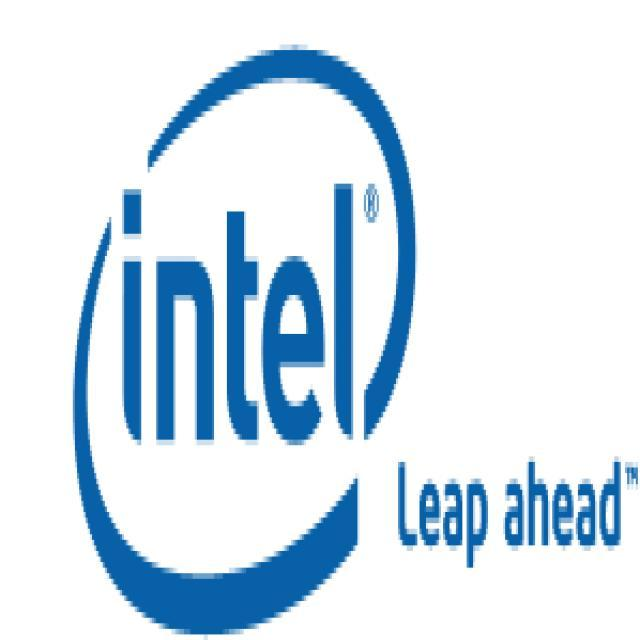intel: (74, 50, 428, 636)
